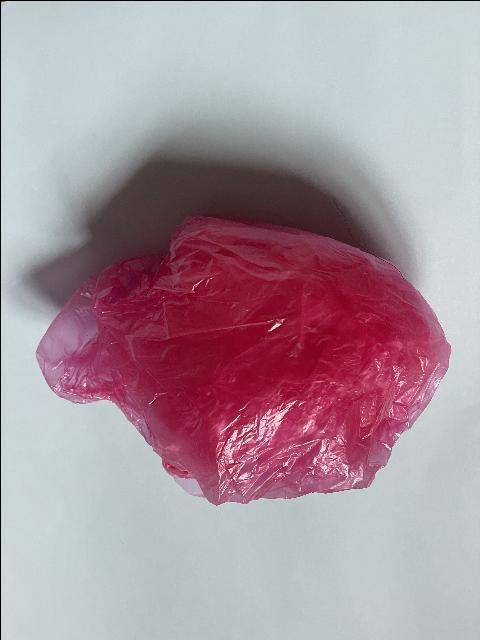plasticbag: (31, 212, 452, 508)
